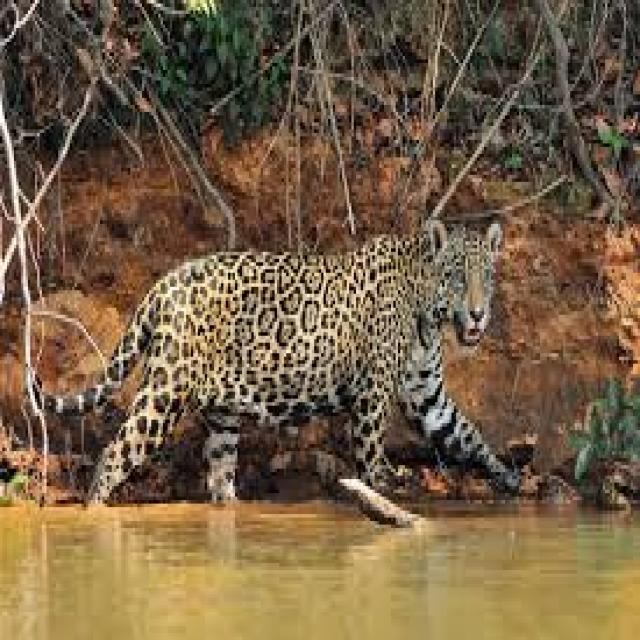Jaguar: (28, 217, 528, 518)
